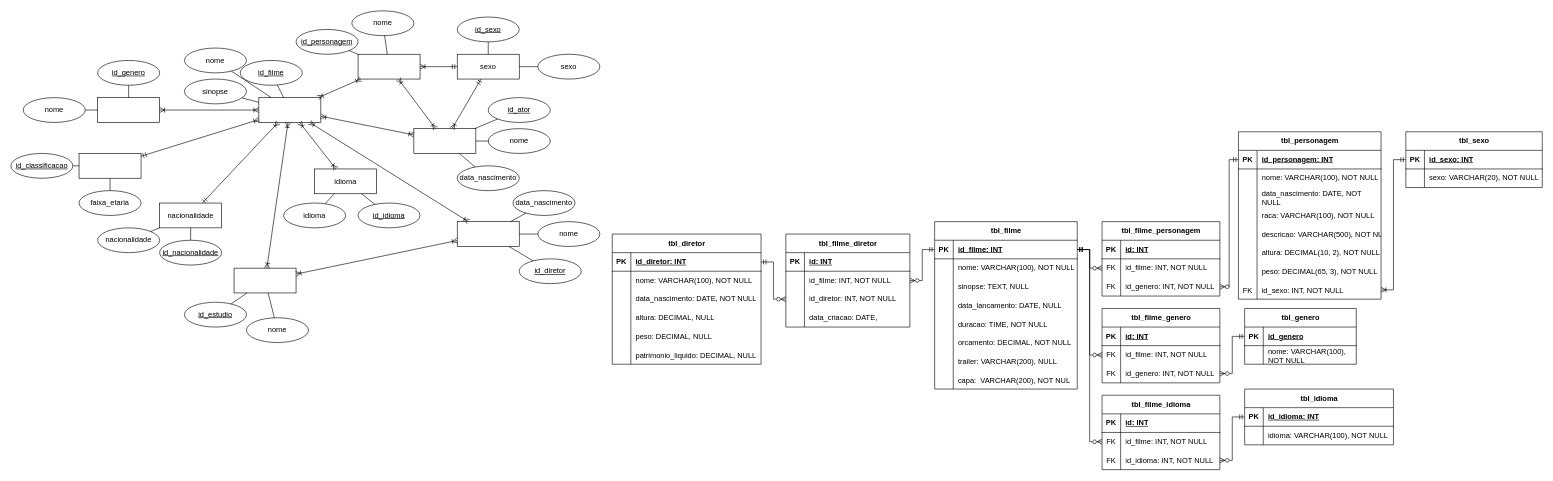
This 1553x481 diagram has some shape labels left out. Here are the shapes that lost their labels. From the top down, the centre of each, then its label:
the point at 388,66: personagem
the point at 128,109: genero
the point at 289,109: filme
the point at 444,140: ator
the point at 109,165: classificacao
the point at 488,233: diretor
the point at 264,280: estudio
